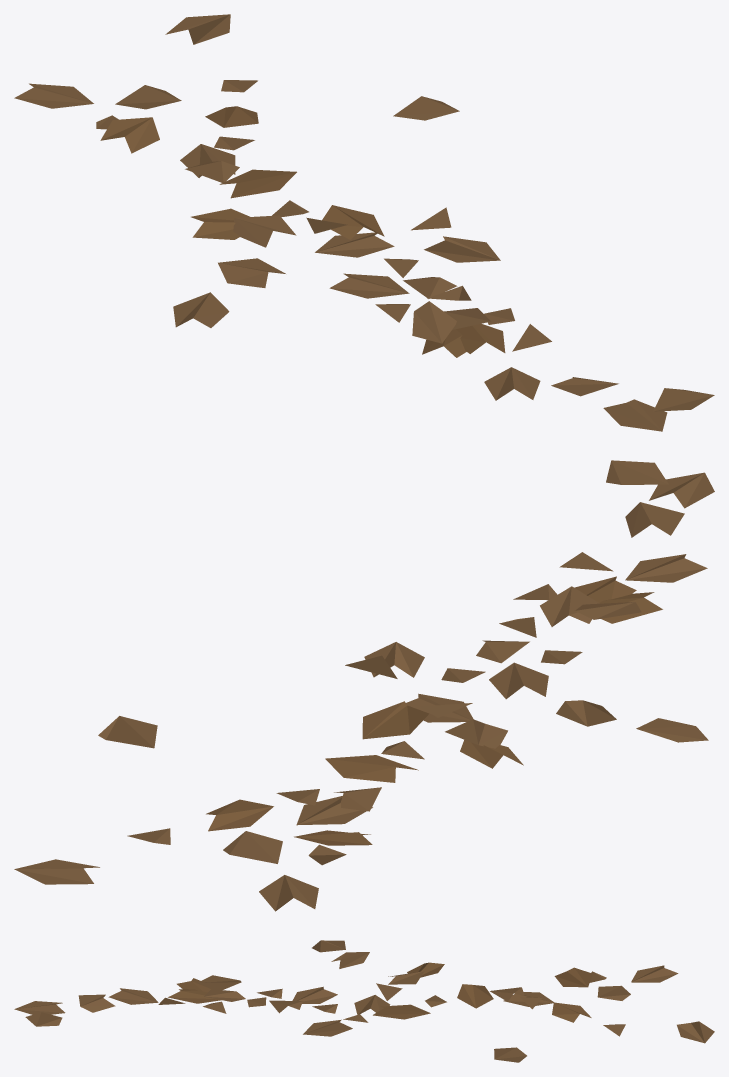
The model's file is SM_Env_Leaves_03.glb.
3 renders of one model, top to bottom at view 1: azimuth 30°, elevation 25°; view 2: azimuth 150°, elevation 25°; view 3: azimuth 270°, elevation 25°, orthographic. The views are drawn at different scales.
Parts seen in each view (by area): view 1: SM_Env_Leaves_03; view 2: SM_Env_Leaves_03; view 3: SM_Env_Leaves_03.
Boxes of the visible parts, left/top/right/bottom form: SM_Env_Leaves_03: left=14, top=14, right=714, bottom=431; SM_Env_Leaves_03: left=14, top=460, right=714, bottom=911; SM_Env_Leaves_03: left=14, top=940, right=714, bottom=1062.
Size of the model in its own units: 164 by 10.28 by 371.
1 material, 1 textured.
